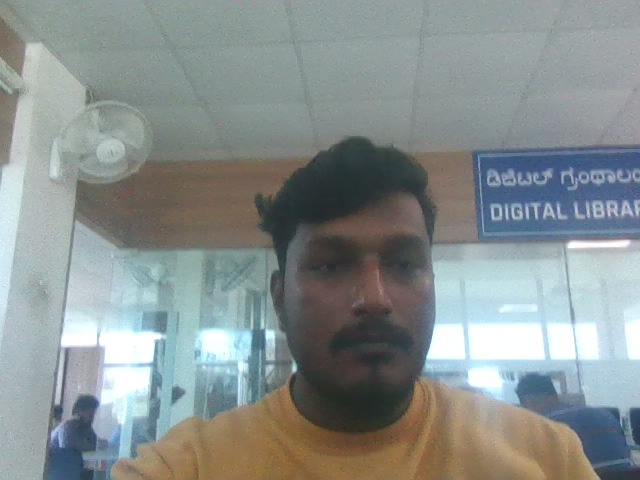real: (254, 123, 464, 420)
